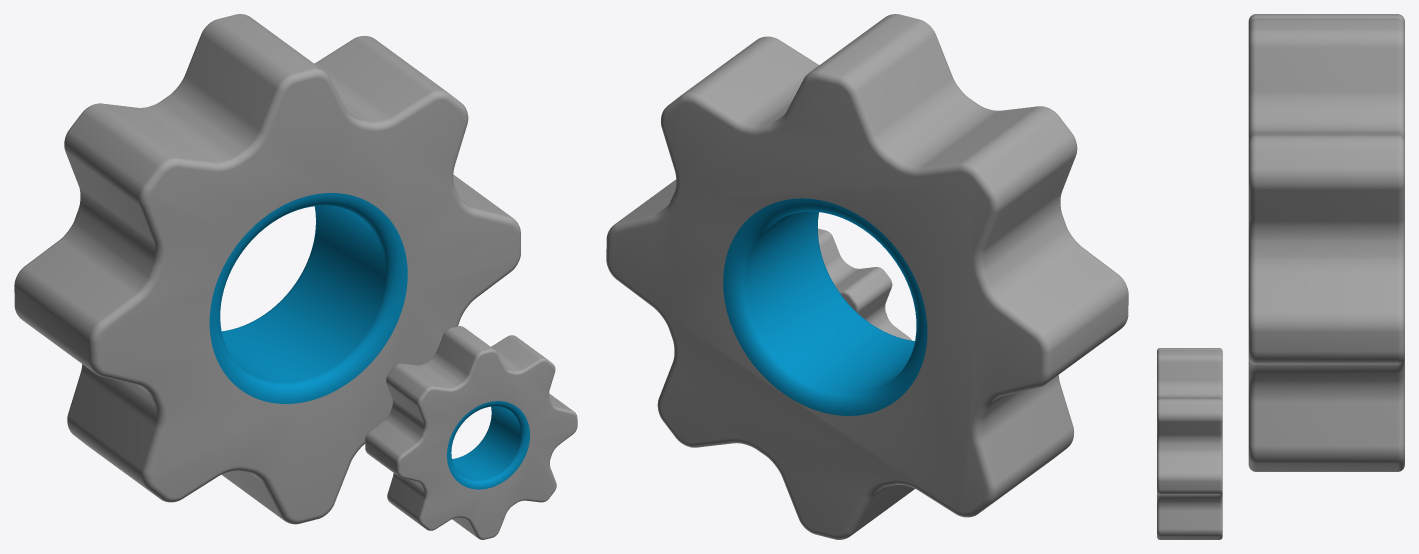
The model's file is setting-3d-animated-icon-745593504540.glb.
3 renders of one model, left to right at view 1: azimuth 30°, elevation 25°; view 2: azimuth 150°, elevation 25°; view 3: azimuth 270°, elevation 25°, orthographic. The views are drawn at different scales.
Parts seen in each view (by area): view 1: Cylinder.015, Cylinder.016; view 2: Cylinder.015, Cylinder.016; view 3: Cylinder.015, Cylinder.016.
Boxes of the visible parts, x1,y1,x2,y2 form: Cylinder.015: (14,14,520,524); Cylinder.016: (365,326,577,539); Cylinder.015: (606,14,1128,539); Cylinder.016: (818,228,911,340); Cylinder.015: (1248,14,1404,471); Cylinder.016: (1157,348,1222,539).
Bounding box in the file's own units: 1.53 × 1.55 × 0.7786.
